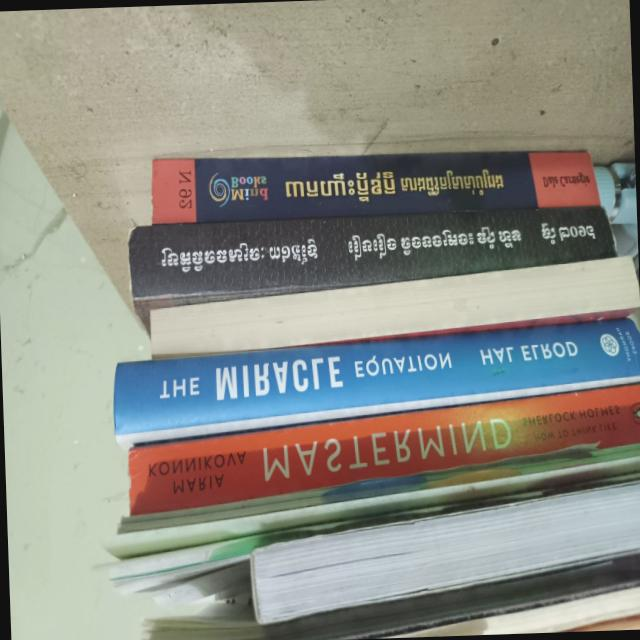1: (281, 161, 510, 208), (157, 230, 323, 274)
2: (345, 221, 524, 262)
Yolov11_80vkh: (539, 220, 596, 246)
